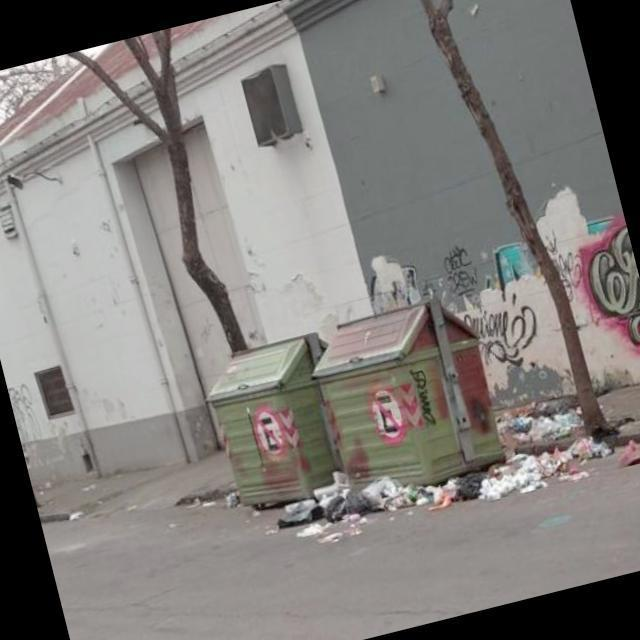garbage: (239, 386, 640, 575), (490, 377, 592, 457)
